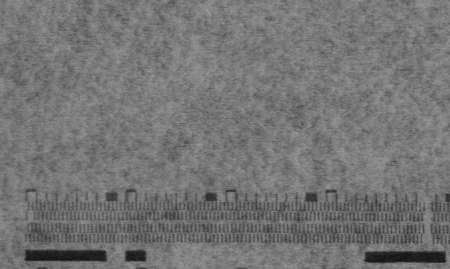Broken hole: (25, 210, 38, 222)
